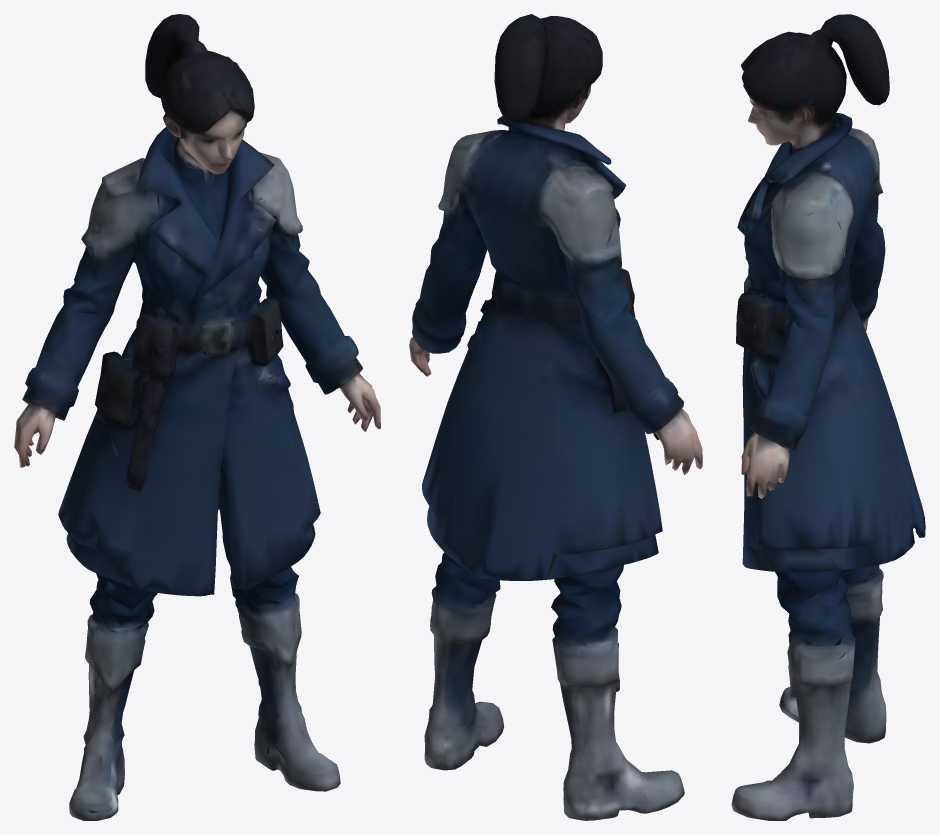
File: outfit_light_inf_t1_f.glb
3 renders of one model, left to right at view 1: azimuth 30°, elevation 25°; view 2: azimuth 150°, elevation 25°; view 3: azimuth 270°, elevation 25°, orthographic. The views are drawn at different scales.
Parts seen in each view (by area): view 1: outfit_light_inf_t1_f; view 2: outfit_light_inf_t1_f; view 3: outfit_light_inf_t1_f.
Boxes of the visible parts, x1,y1,x2,y2 form: outfit_light_inf_t1_f: [14, 14, 380, 820]; outfit_light_inf_t1_f: [409, 14, 702, 820]; outfit_light_inf_t1_f: [731, 14, 925, 820].
Bounding box in the file's own units: 0.8164 × 1.85 × 0.4332.
1 material, 1 textured.
